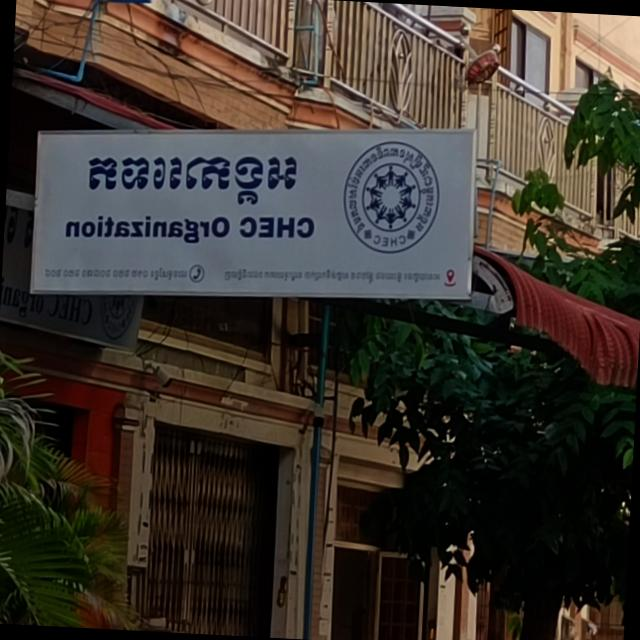Yolov11_80vkh: (81, 147, 303, 210)
